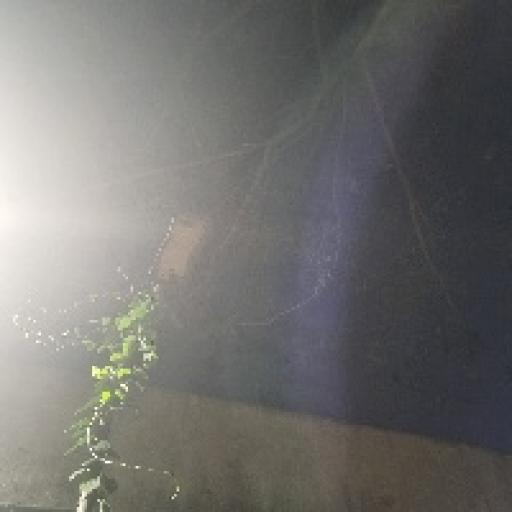Not Working: (134, 201, 219, 304)
